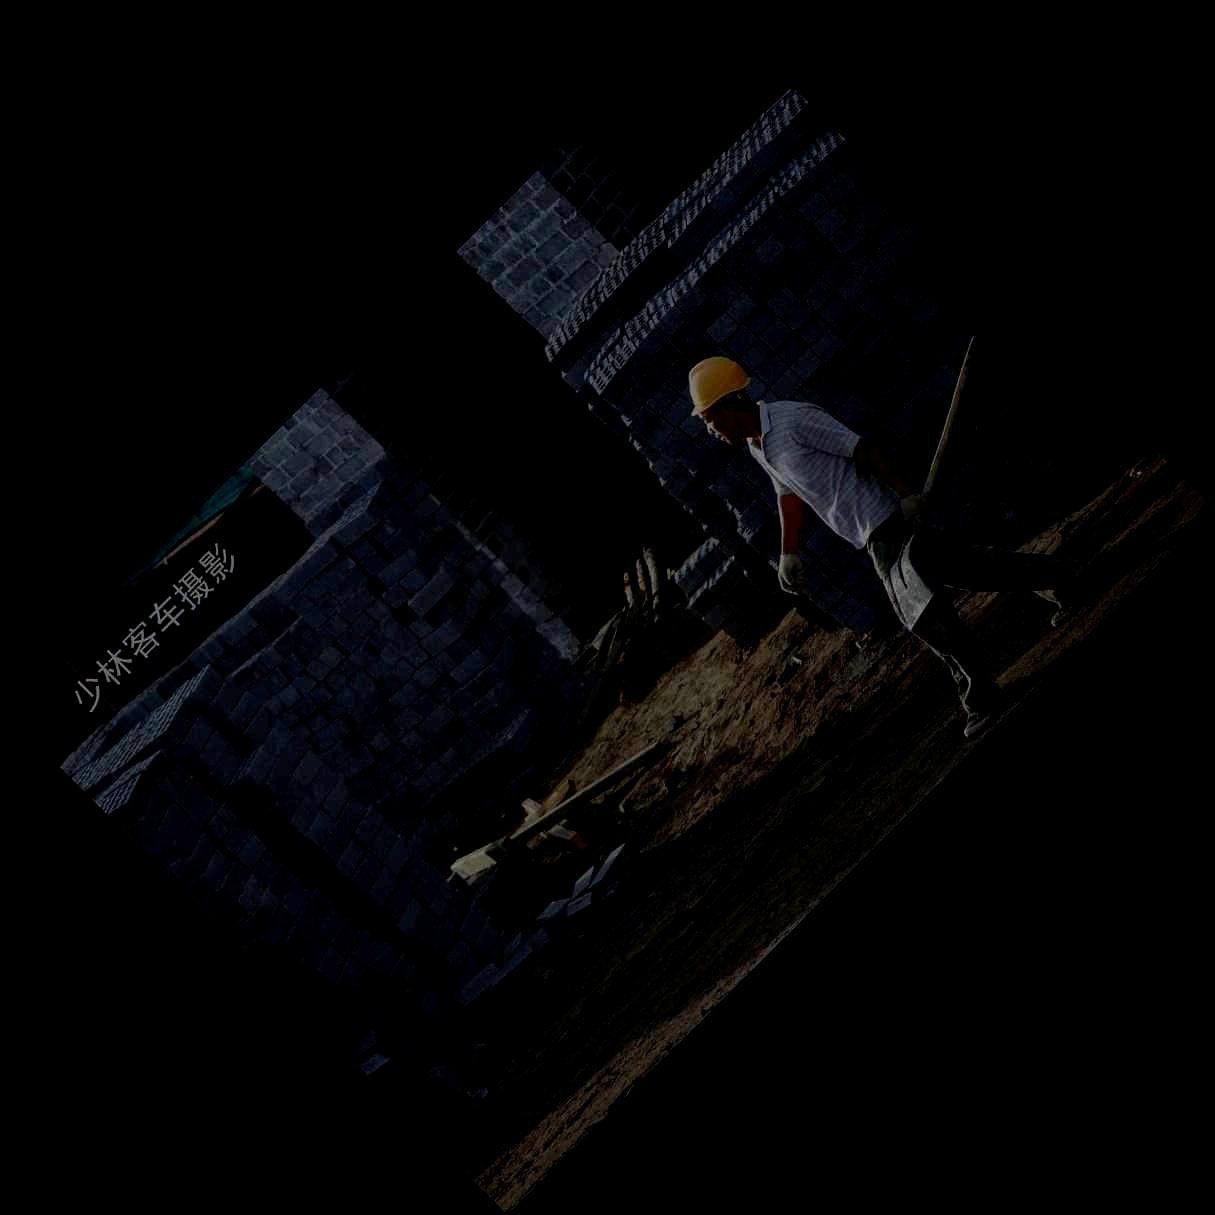helmet: (688, 356, 753, 444)
